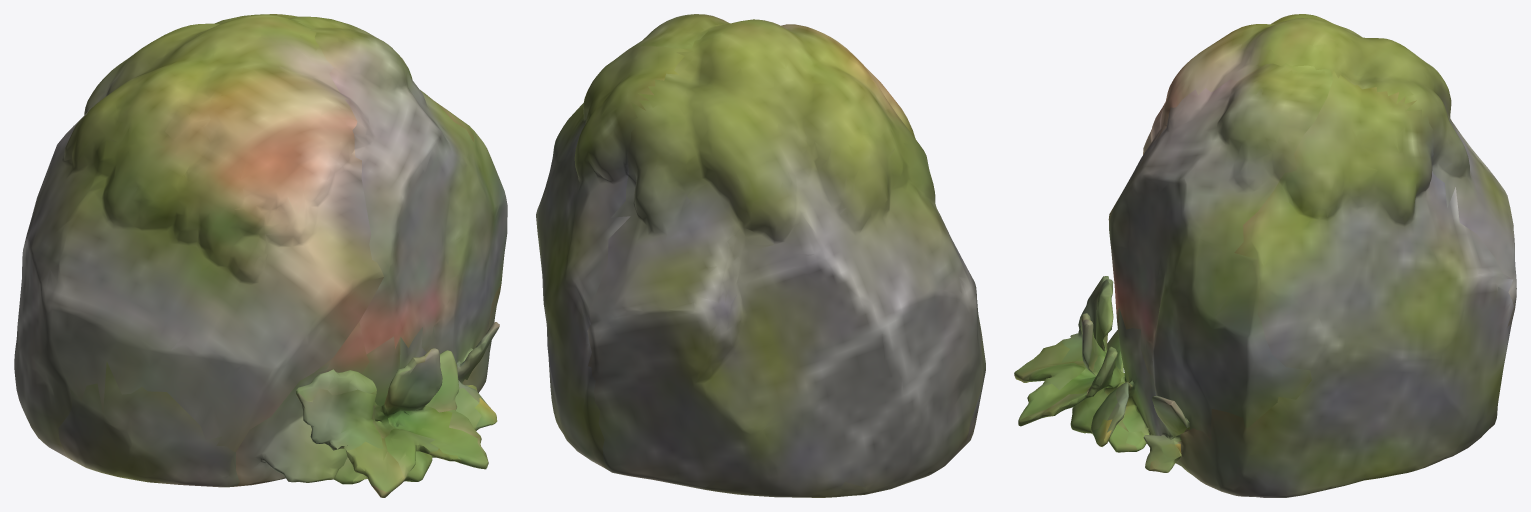
The model's file is roca_hueca.glb.
3 renders of one model, left to right at view 1: azimuth 30°, elevation 25°; view 2: azimuth 150°, elevation 25°; view 3: azimuth 270°, elevation 25°, orthographic.
Visible parts, largest first — view 1: roca_hueca_malla; view 2: roca_hueca_malla; view 3: roca_hueca_malla.
Part boxes in pixels (box(x1,y1,x2,y2)): roca_hueca_malla: box(14, 14, 507, 497); roca_hueca_malla: box(536, 14, 985, 497); roca_hueca_malla: box(1014, 14, 1516, 497).
Bounding box in the file's own units: 0.1679 × 0.1407 × 0.1681.
1 material, 1 textured.
